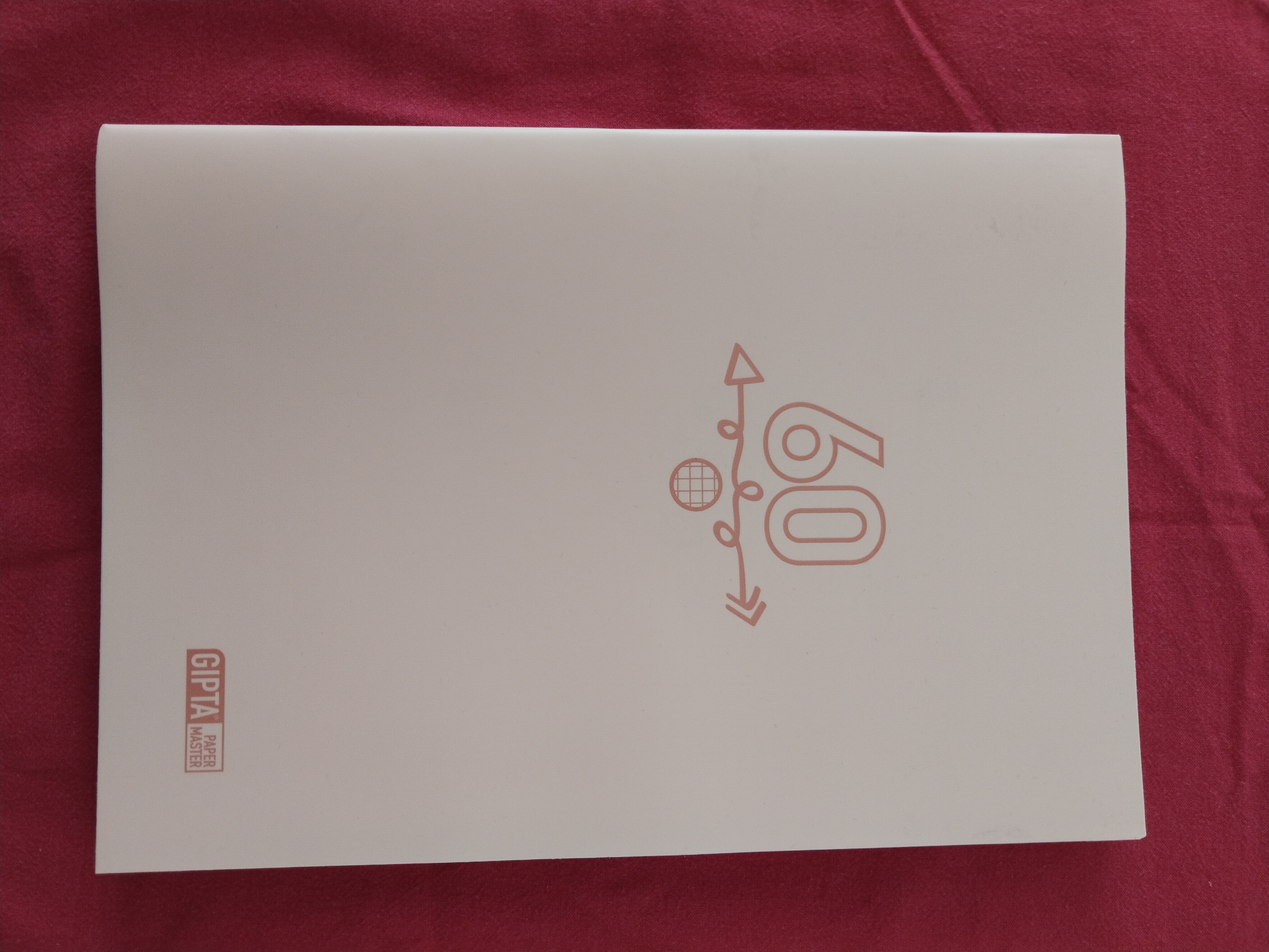60_sayfa_gipta_defter: (100, 124, 1141, 852)
